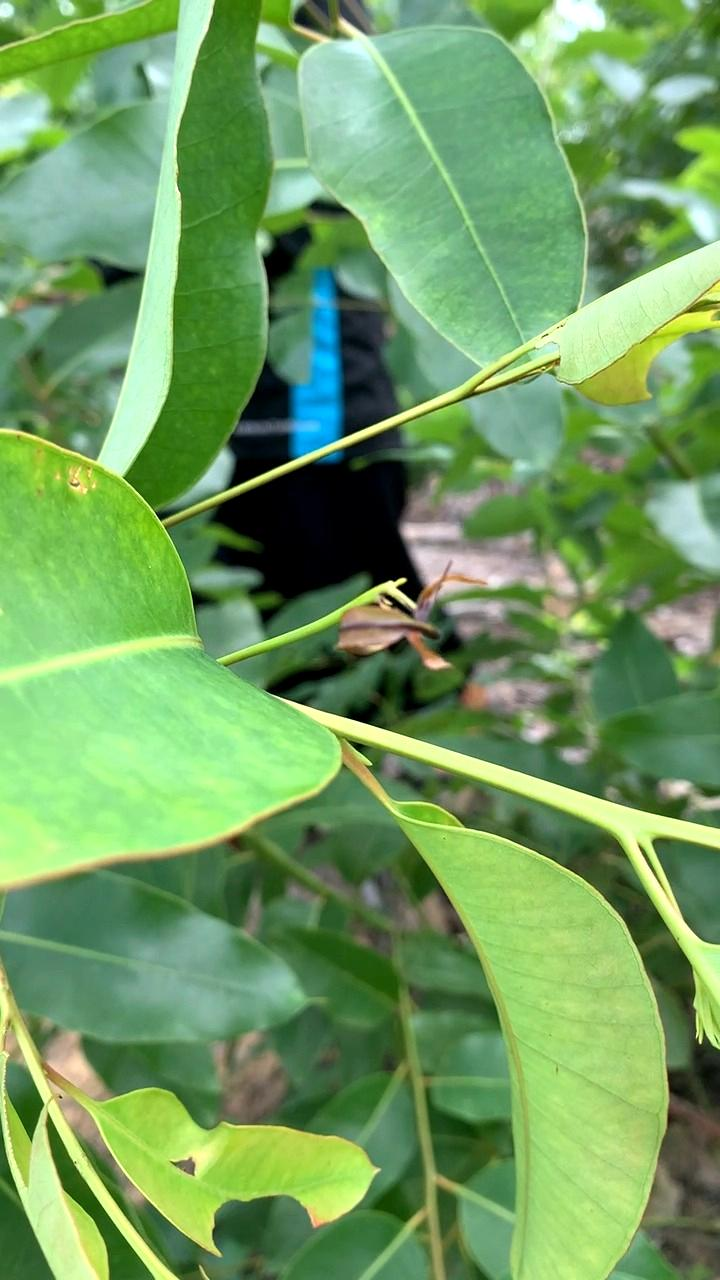Helopeltis-Withered Sprout: (319, 533, 516, 709)
